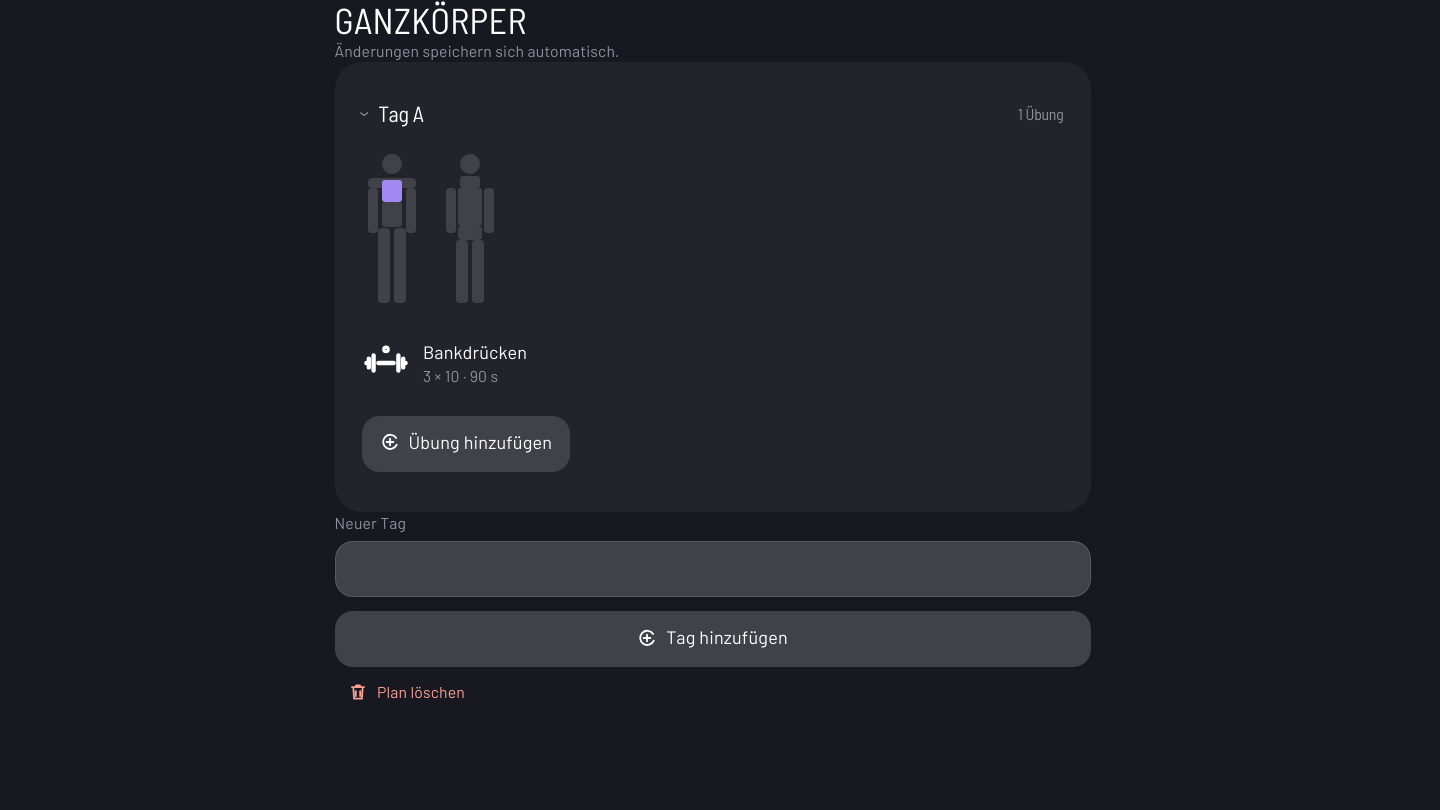
TrainingPlanEditPage › adds an exercise to a day via the picker dialog by clicking its row directly
Check: the text "Tag A" is shown, box top-left (378, 100), bottom-right (424, 128)
Click the button "Übung hinzufügen": [466, 444] box top-left (362, 416), bottom-right (570, 472)
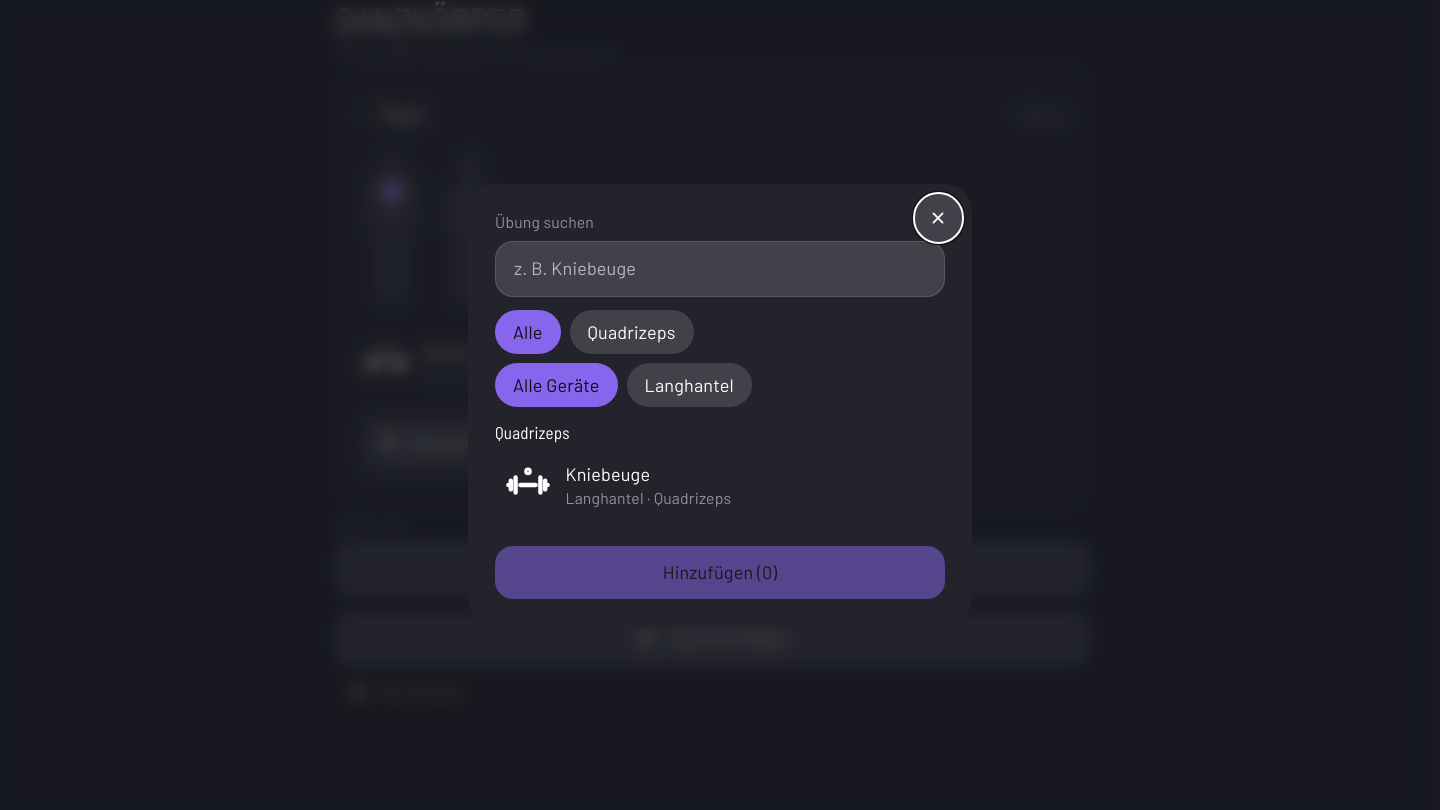
# No search typed — the full selectable list is visible immediately.
Click the button "Kniebeuge Langhantel · Quadrizeps": [720, 485] box top-left (495, 447), bottom-right (945, 523)
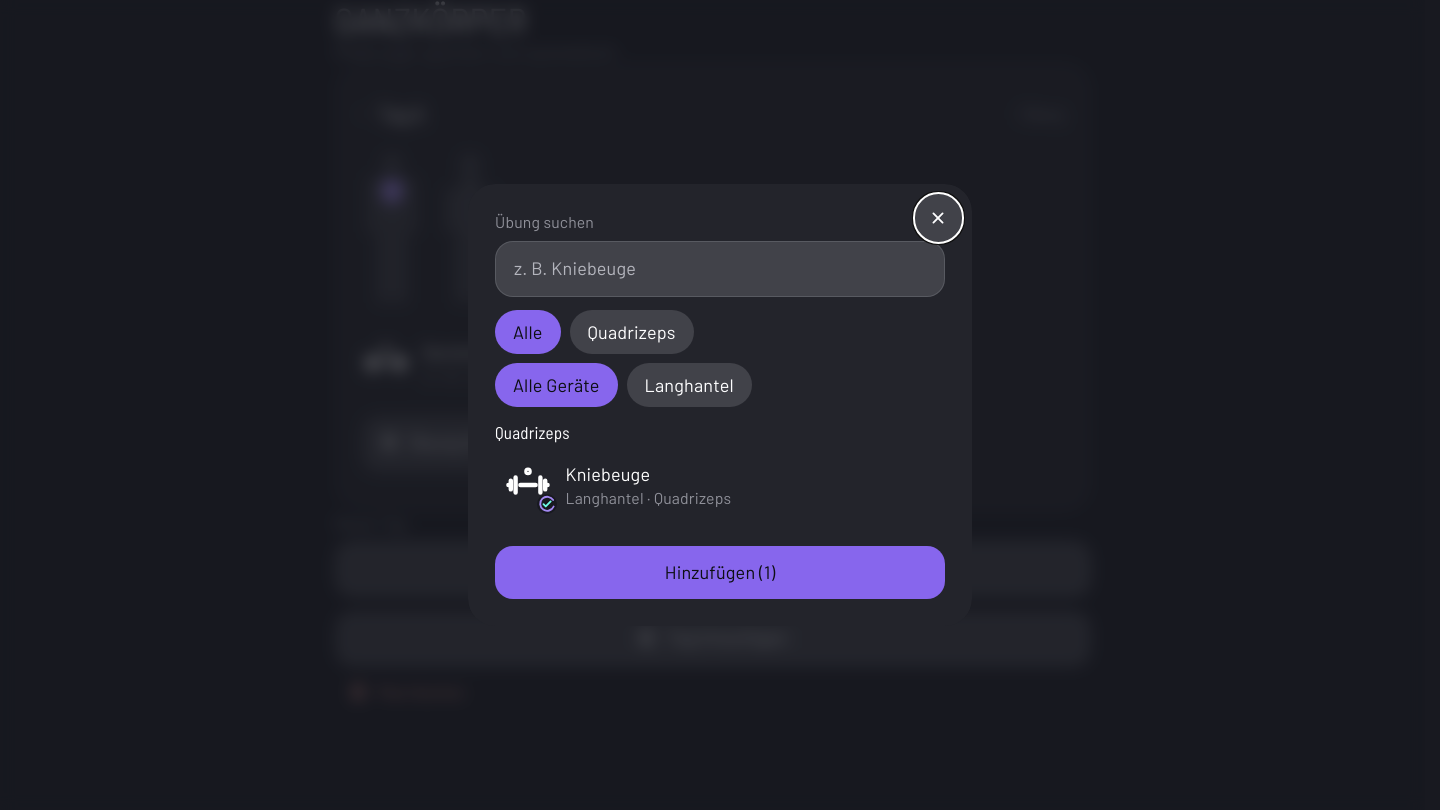
Click the button "Hinzufügen (1)": [720, 572] box top-left (495, 546), bottom-right (945, 599)
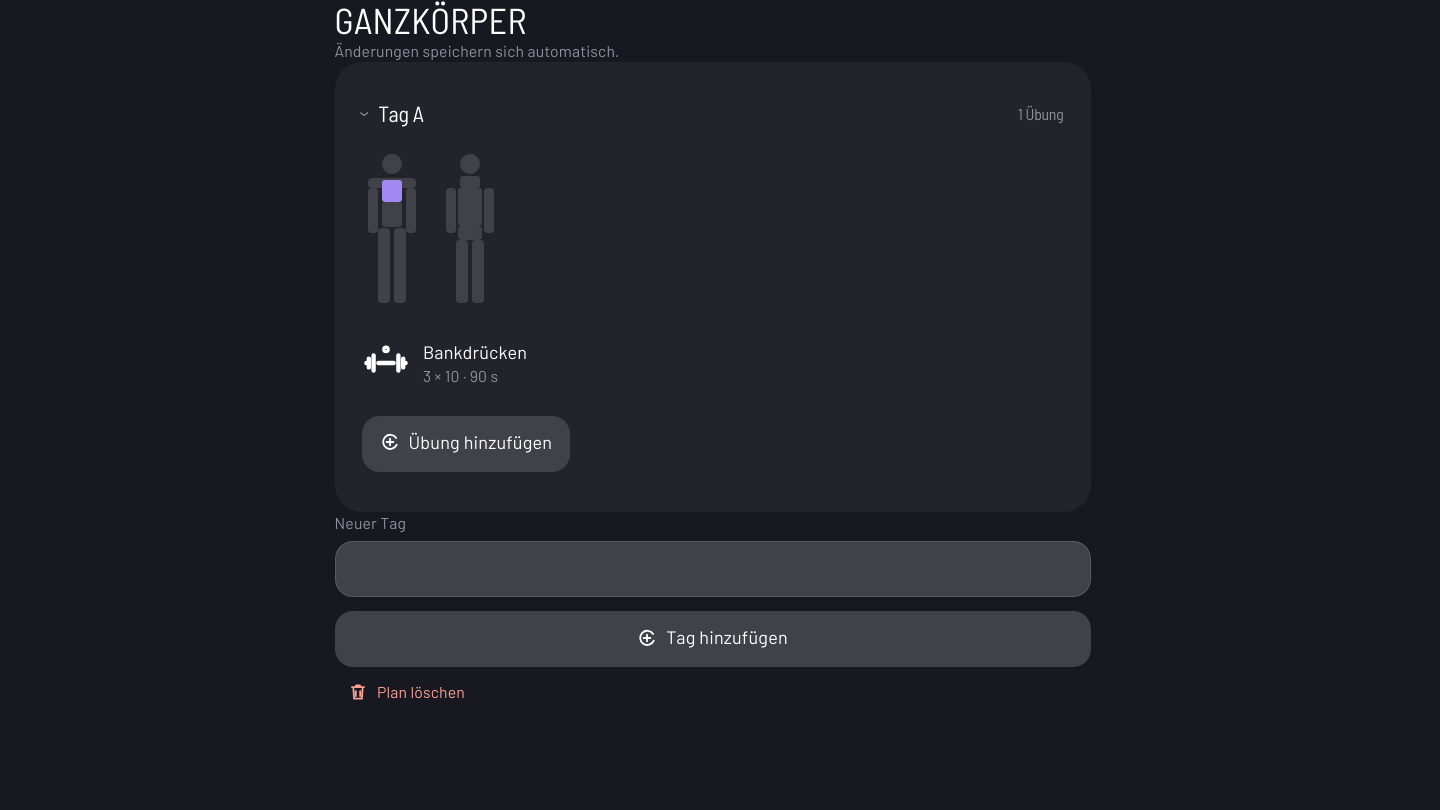
Check: the label labelled "Übung suchen" is gone
